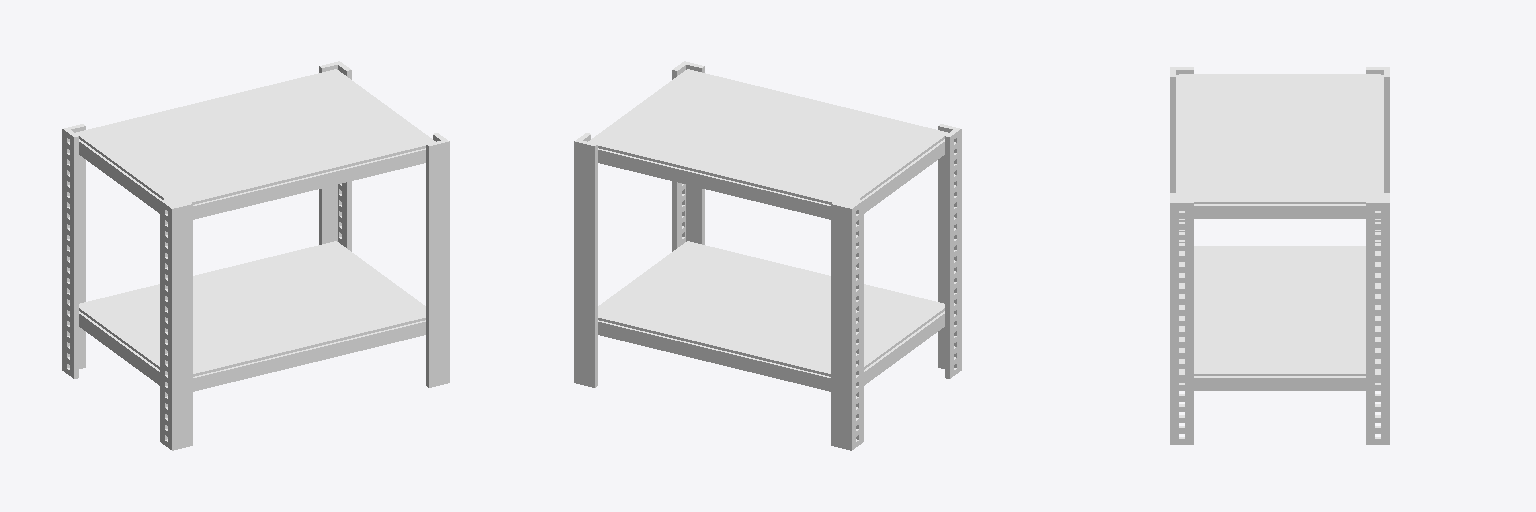
Rendered from PrateleiraDeMetal-Topo.obj.
3 renders of one model, left to right at view 1: azimuth 30°, elevation 25°; view 2: azimuth 150°, elevation 25°; view 3: azimuth 270°, elevation 25°, orthographic.
Visible parts, largest first — view 1: object 1; view 2: object 1; view 3: object 1.
Boxes of the visible parts, box(x1,y1,x2,y2) form: object 1: box(62, 61, 449, 450); object 1: box(574, 61, 961, 450); object 1: box(1170, 67, 1389, 444).
Size of the model in its own units: 10.8 by 9 by 7.4.